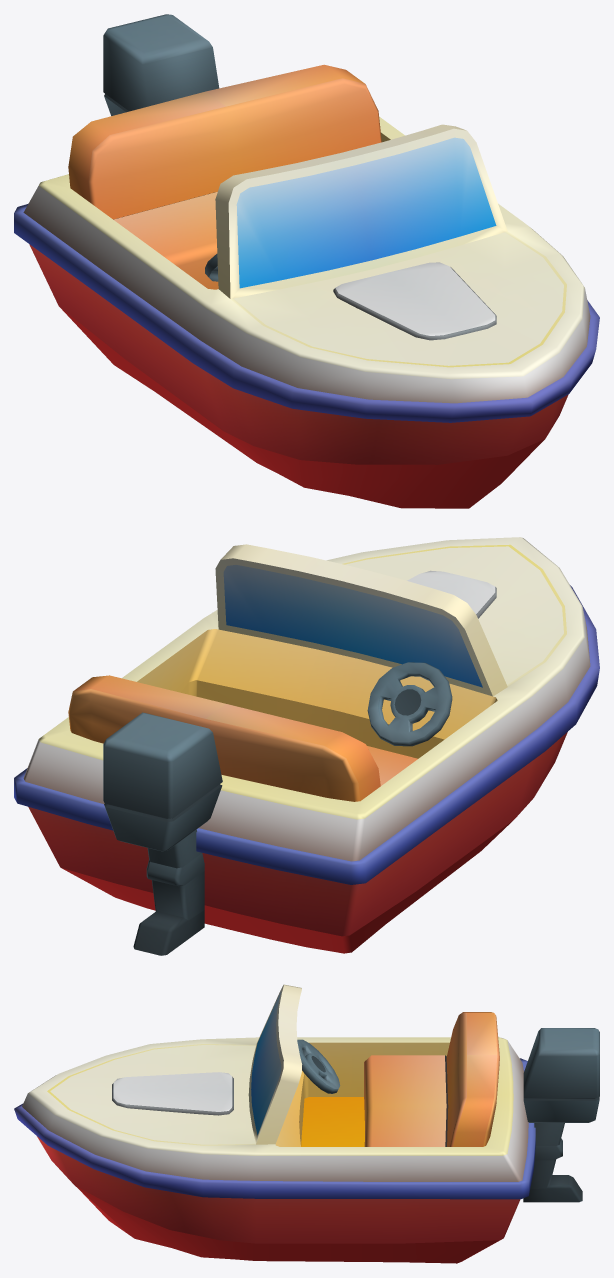
The model's file is SmallBoat.fbx.
The picture shows the model from 3 angles, top to bottom: view 1: azimuth 30°, elevation 25°; view 2: azimuth 150°, elevation 25°; view 3: azimuth 270°, elevation 25°; orthographic projection. The views are drawn at different scales.
Parts seen in each view (by area): view 1: SmallBoat; view 2: SmallBoat; view 3: SmallBoat.
Part boxes in pixels (x1,y1,x2,y2): SmallBoat: [14, 14, 599, 508]; SmallBoat: [14, 537, 599, 955]; SmallBoat: [14, 984, 599, 1263].
Size of the model in its own units: 1.21 by 0.8756 by 2.35.
